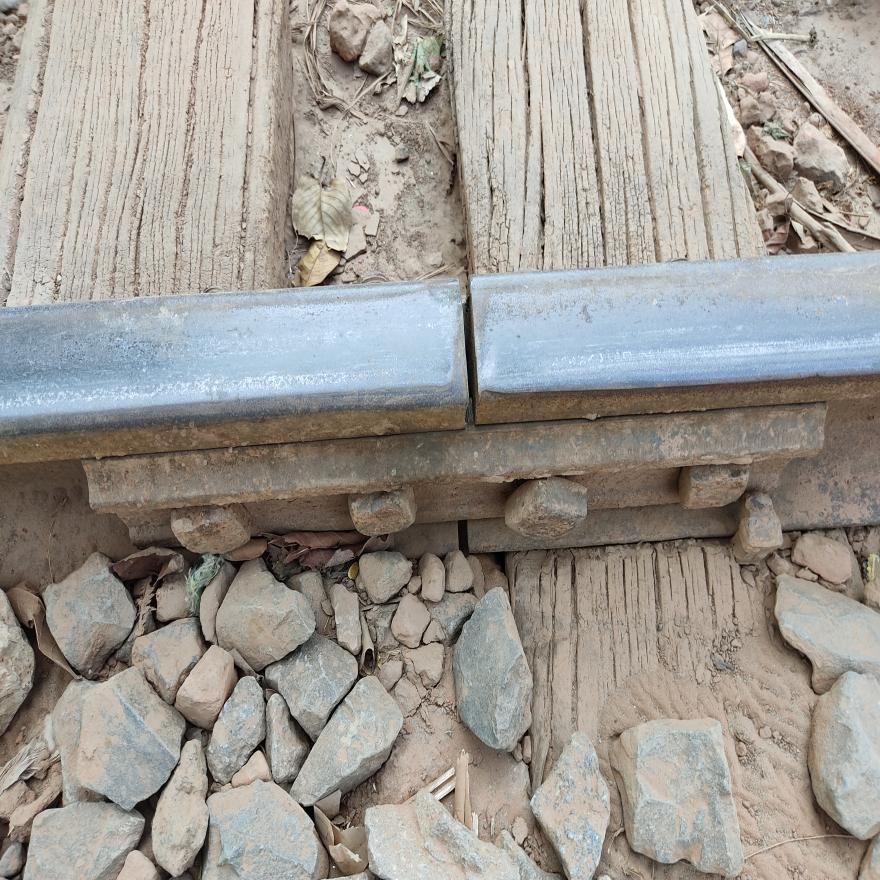railway-gap: (399, 260, 546, 450), (434, 500, 496, 578)
